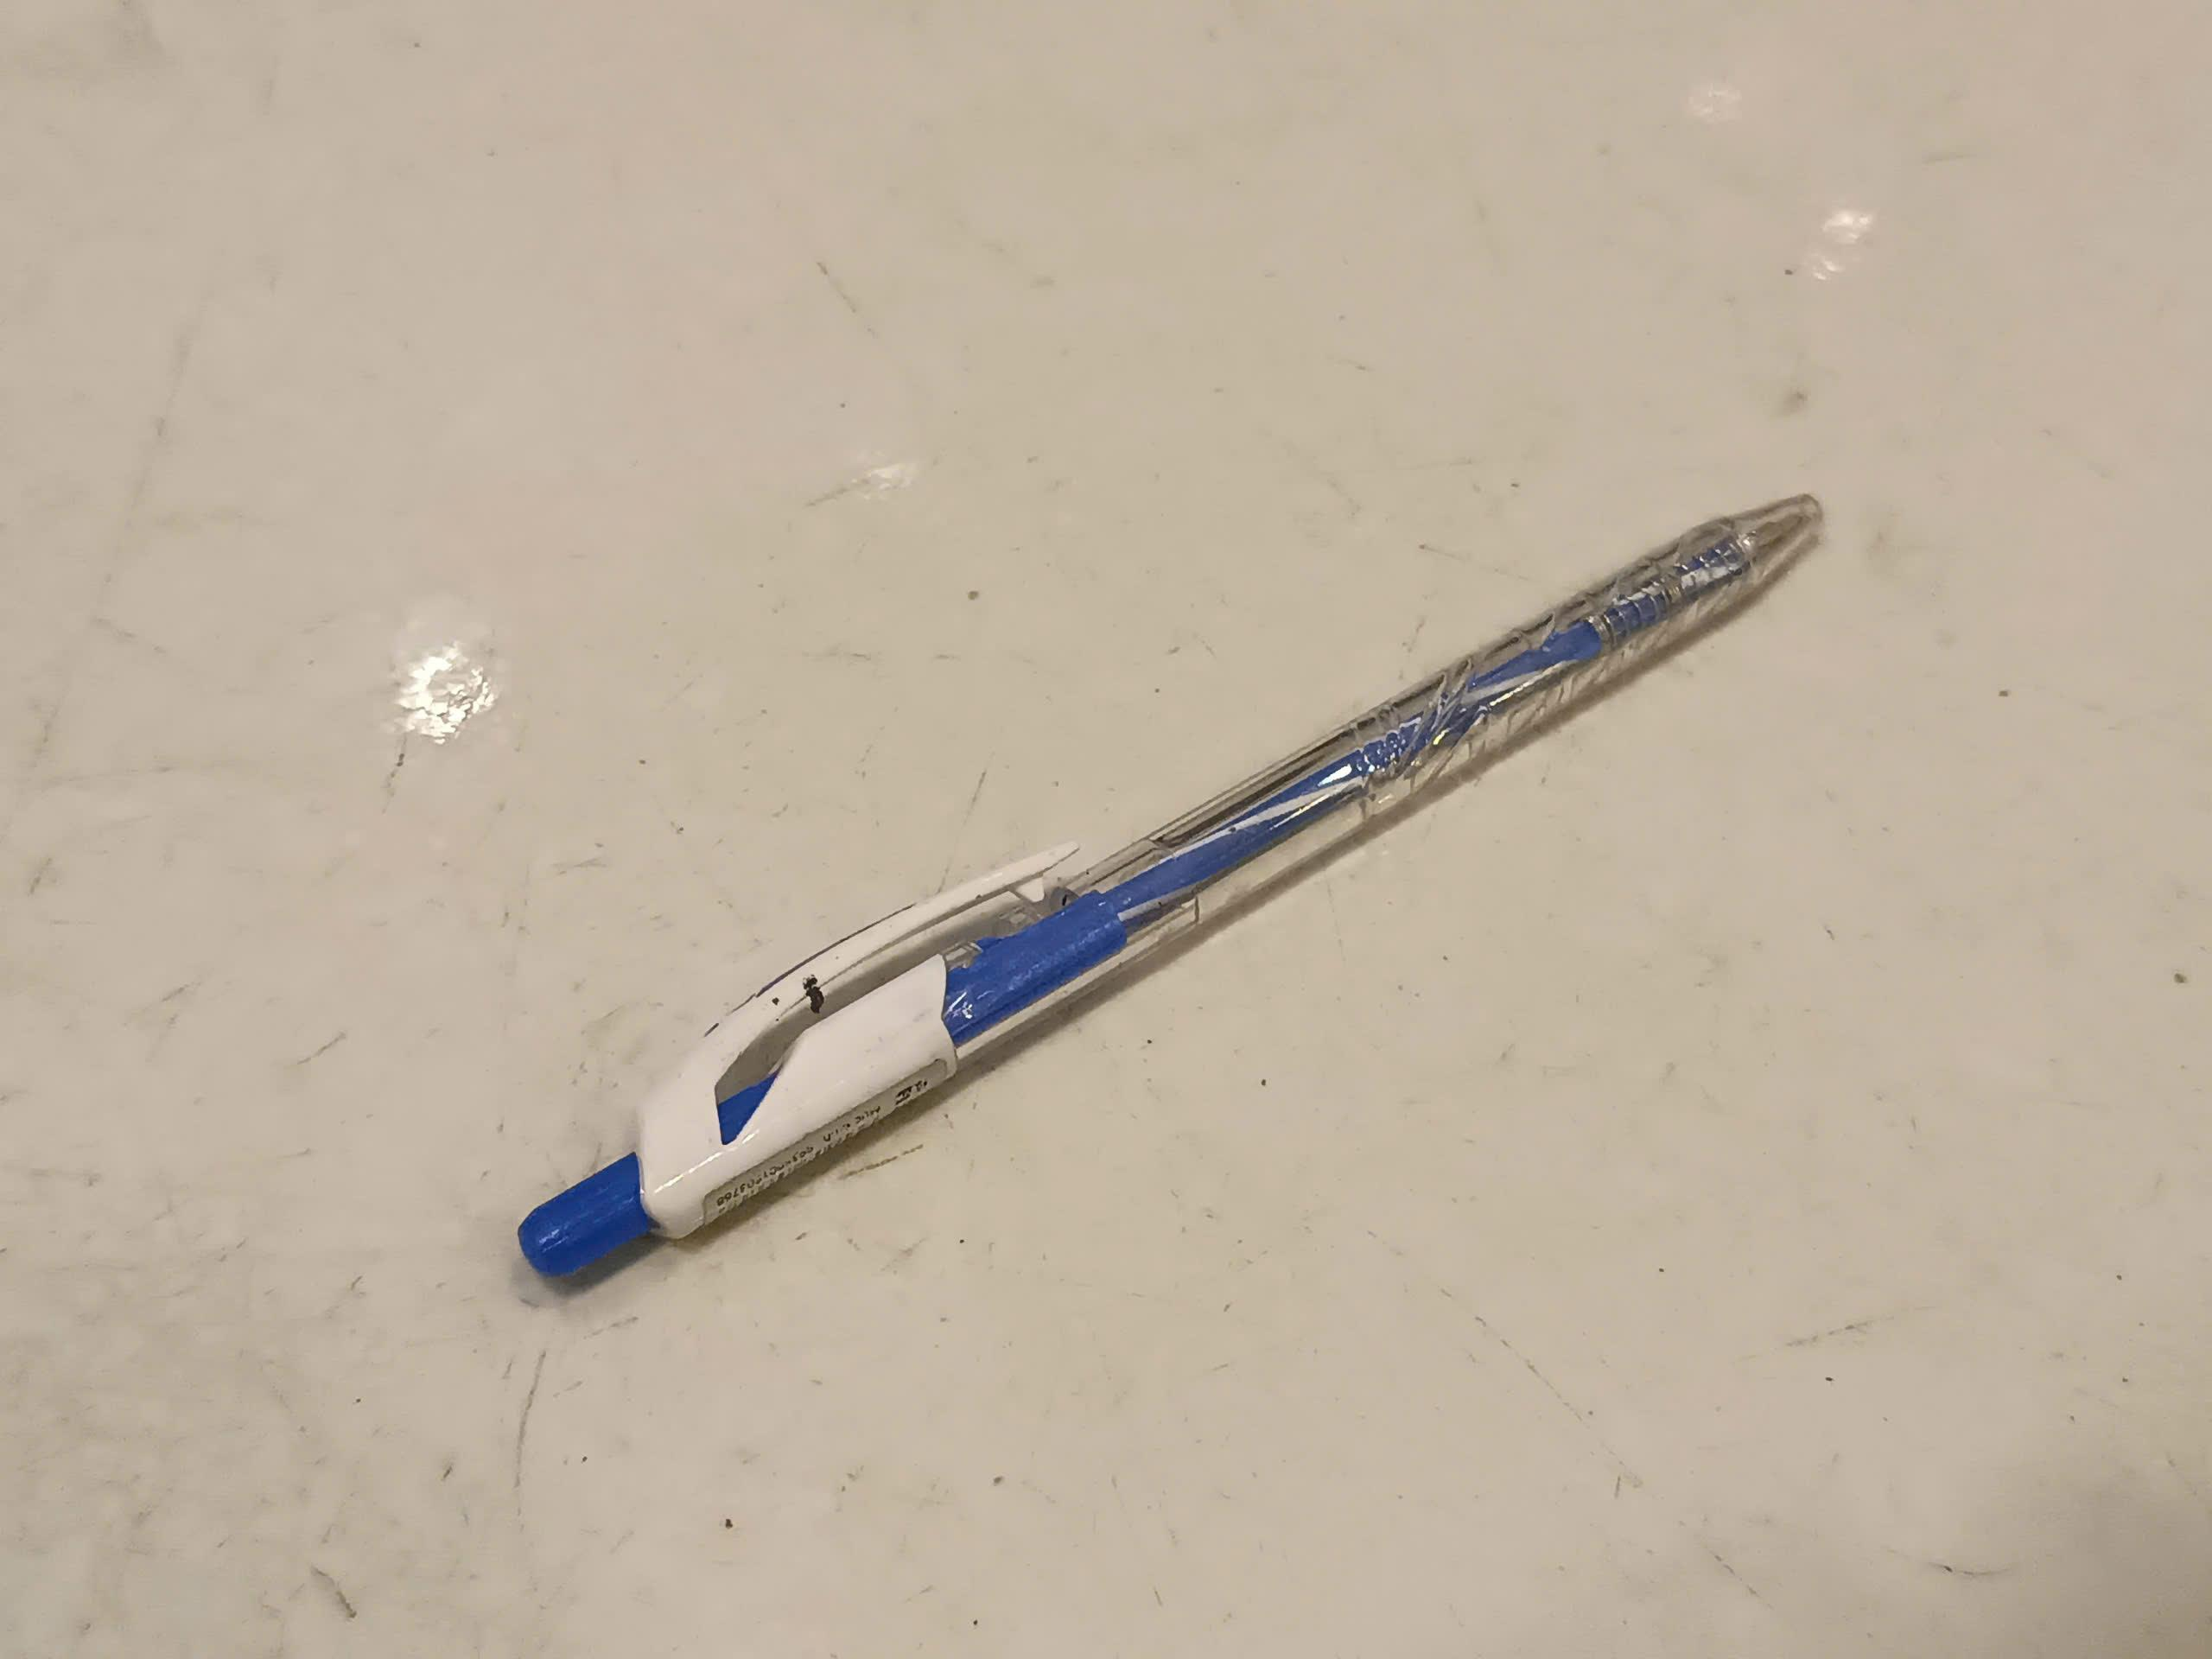Con lai: (519, 497, 1825, 1284)
